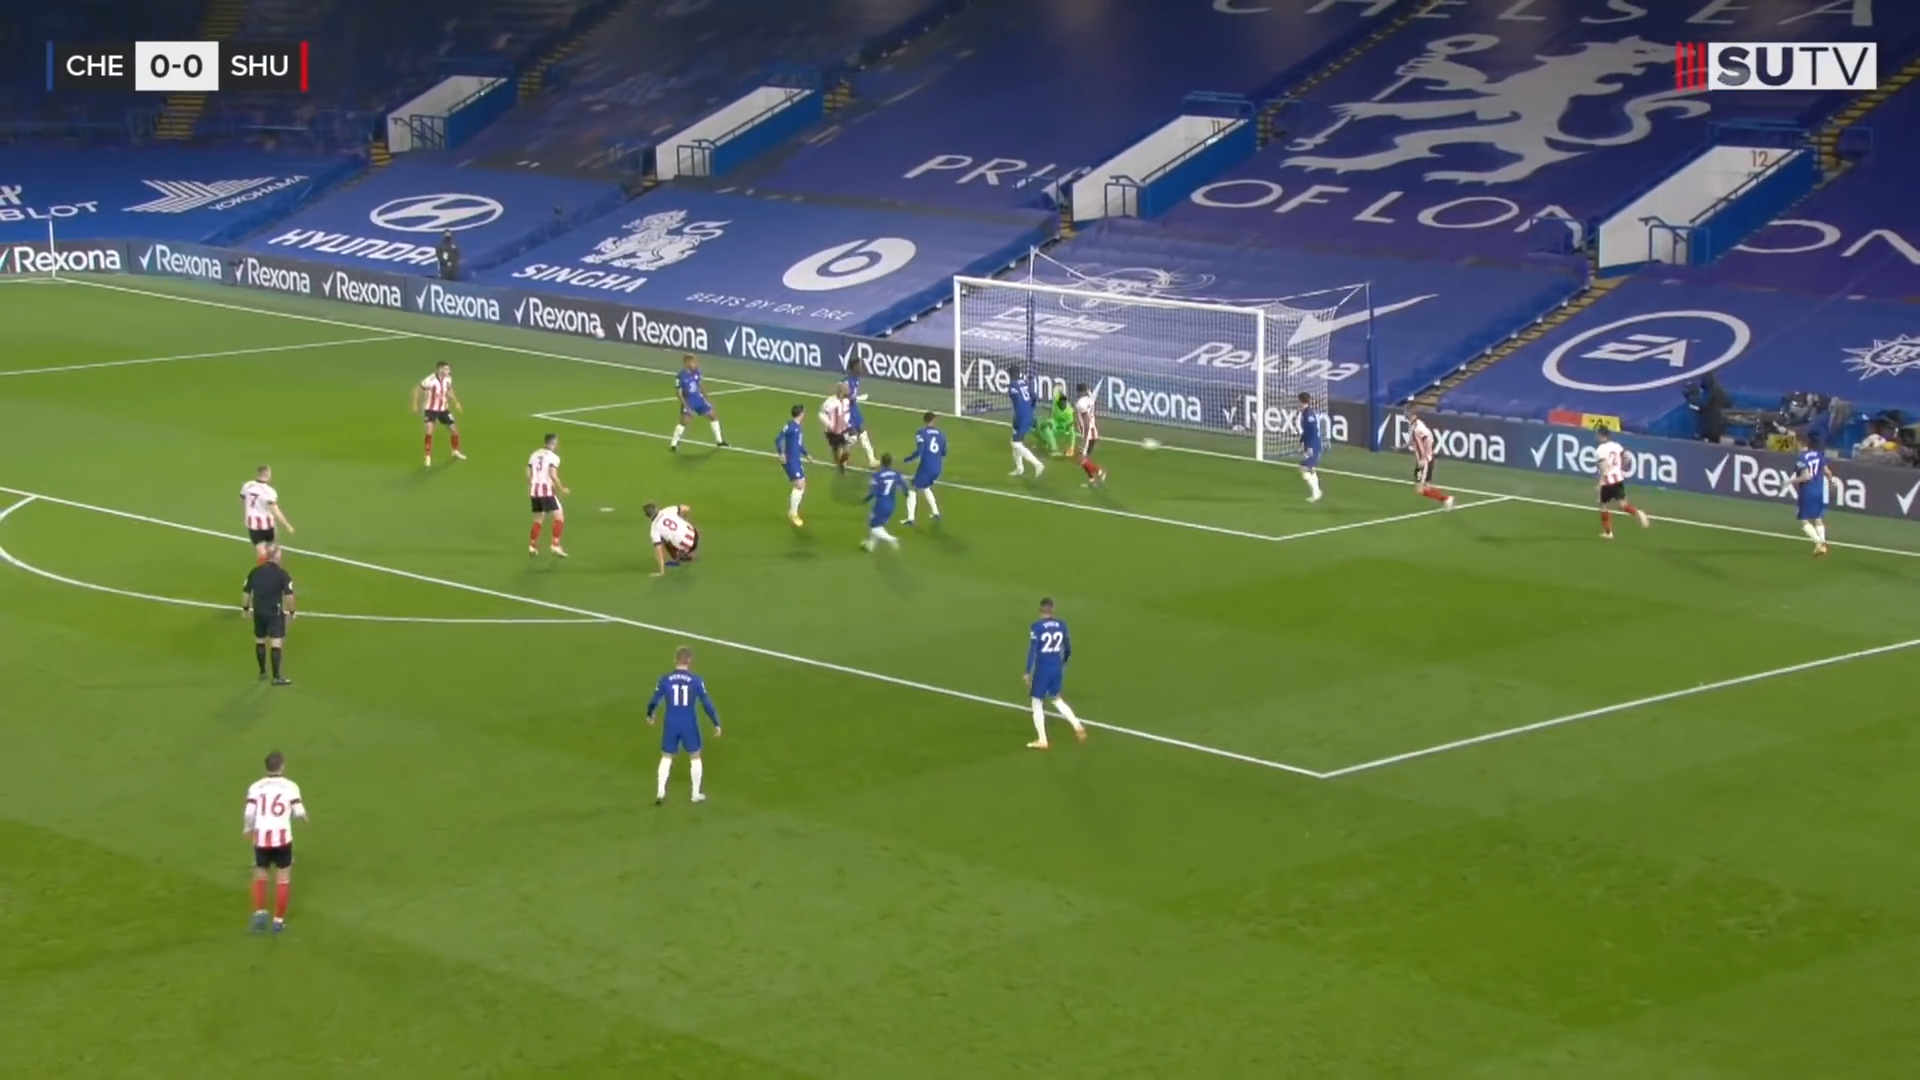Player: (233, 739, 318, 942), (632, 637, 725, 814), (1005, 588, 1092, 756), (513, 419, 579, 573), (402, 354, 487, 472)
